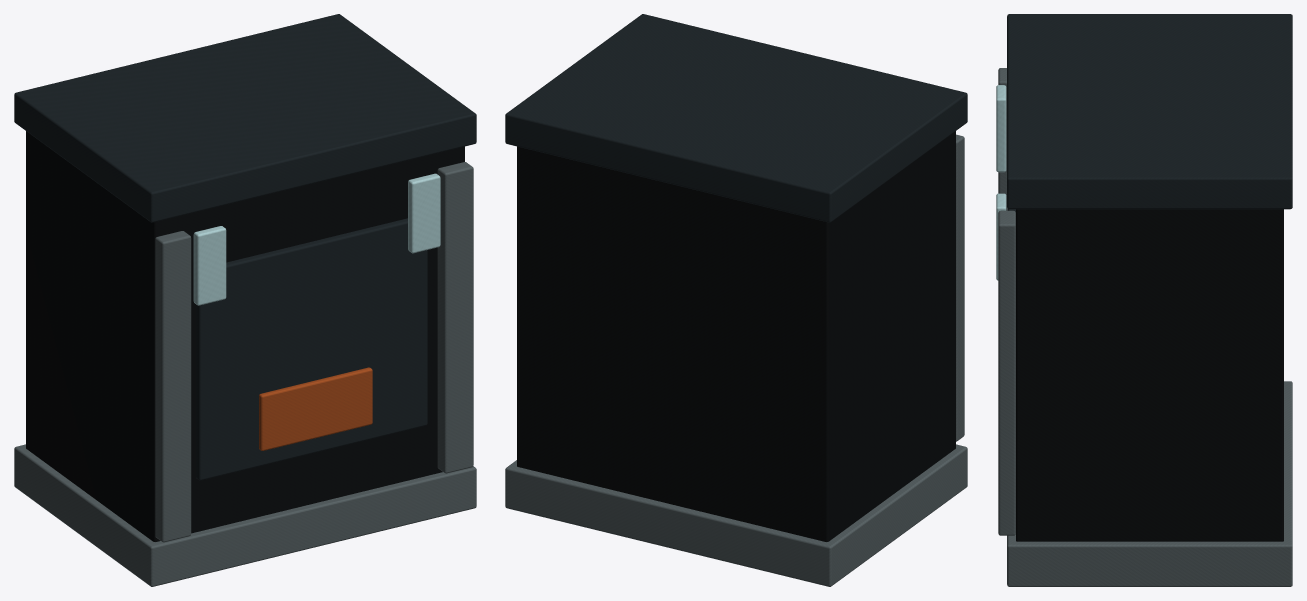
File: HeavyContainmentCrate.fbx
3 renders of one model, left to right at view 1: azimuth 30°, elevation 25°; view 2: azimuth 150°, elevation 25°; view 3: azimuth 270°, elevation 25°, orthographic. The views are drawn at different scales.
Visible parts, largest first — view 1: HeavyContainmentCrate_Mesh; view 2: HeavyContainmentCrate_Mesh; view 3: HeavyContainmentCrate_Mesh.
Boxes of the visible parts, x1,y1,x2,y2 form: HeavyContainmentCrate_Mesh: (14, 14, 476, 586); HeavyContainmentCrate_Mesh: (505, 14, 967, 586); HeavyContainmentCrate_Mesh: (996, 14, 1292, 586).
Bounding box in the file's own units: 134 × 155 × 102.
